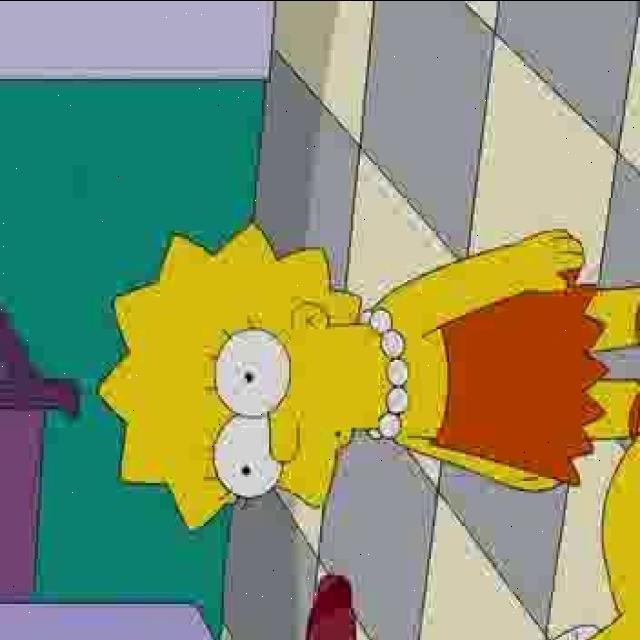Lisa Simpson: (95, 216, 414, 534)
